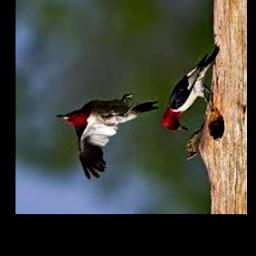Woodpecker: (56, 94, 159, 180), (161, 45, 220, 132)
